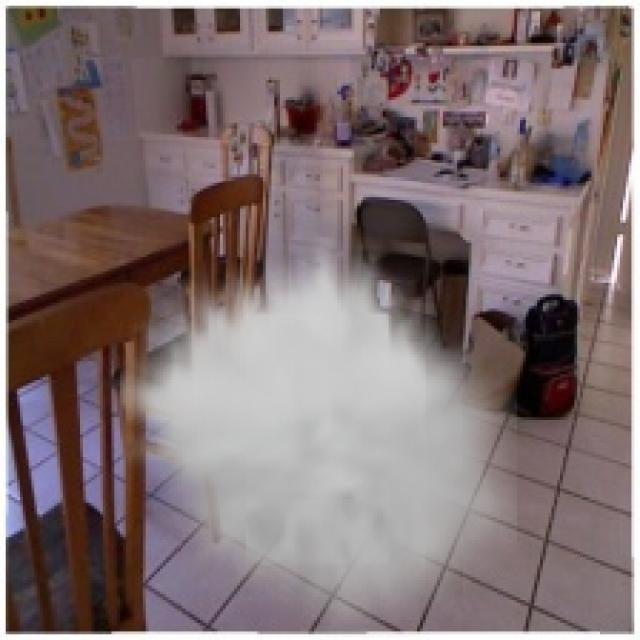Smoke: (120, 237, 517, 637)
